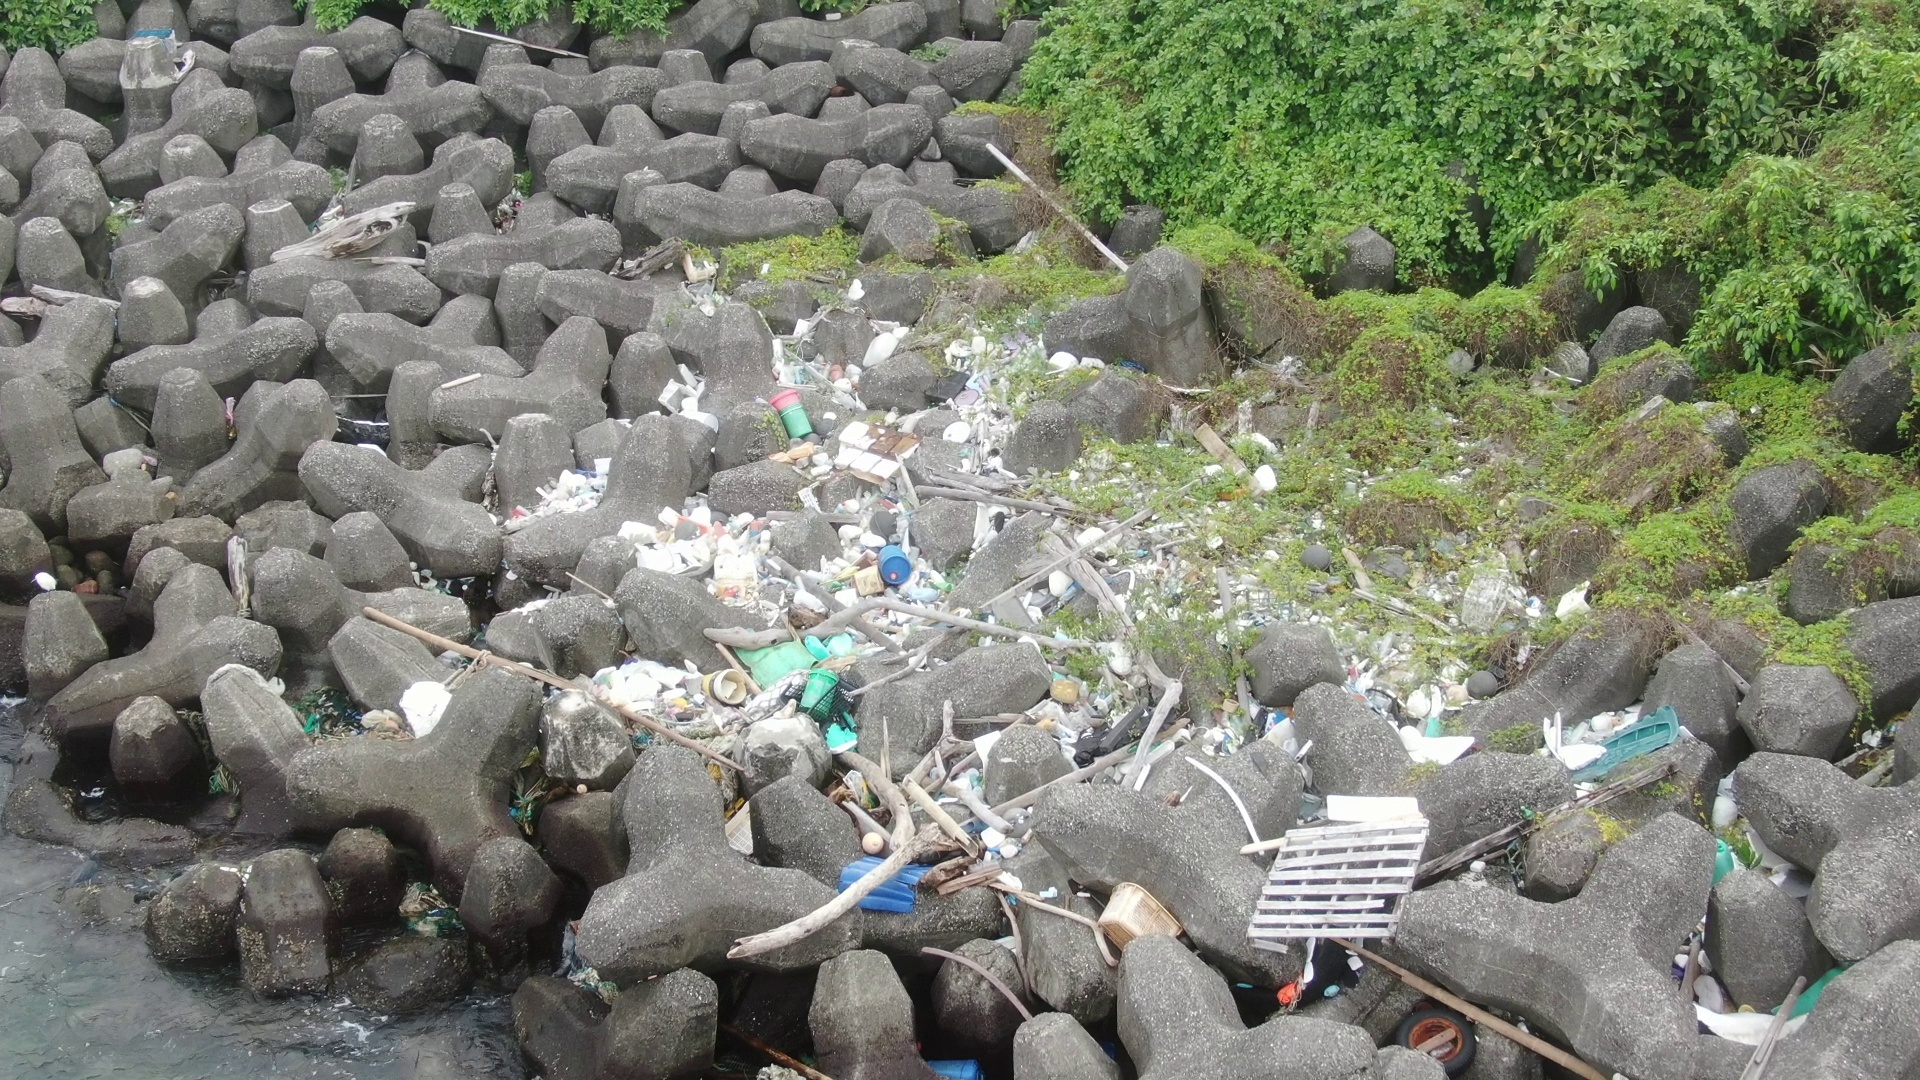garbage: (514, 435, 916, 779), (964, 476, 1307, 775), (646, 252, 1120, 456), (1245, 783, 1437, 1010), (832, 771, 1030, 926), (1665, 924, 1862, 1054), (1360, 647, 1507, 785), (1520, 694, 1687, 786), (1377, 996, 1497, 1080), (1091, 872, 1187, 969), (392, 865, 464, 940), (498, 761, 556, 847), (287, 688, 375, 745), (911, 1035, 994, 1080), (1700, 827, 1755, 894), (203, 749, 245, 806), (125, 22, 191, 58)
